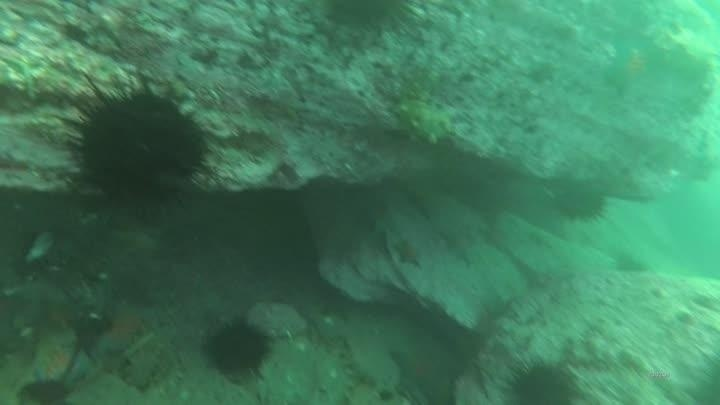echinus: (63, 79, 209, 209), (200, 314, 274, 382), (502, 356, 580, 404), (322, 1, 420, 35), (553, 180, 610, 225)
holothurian: (392, 75, 457, 147), (118, 326, 178, 394)
starfish: (386, 342, 463, 405), (601, 36, 666, 99), (92, 301, 154, 359), (26, 330, 84, 387), (392, 236, 425, 270)
